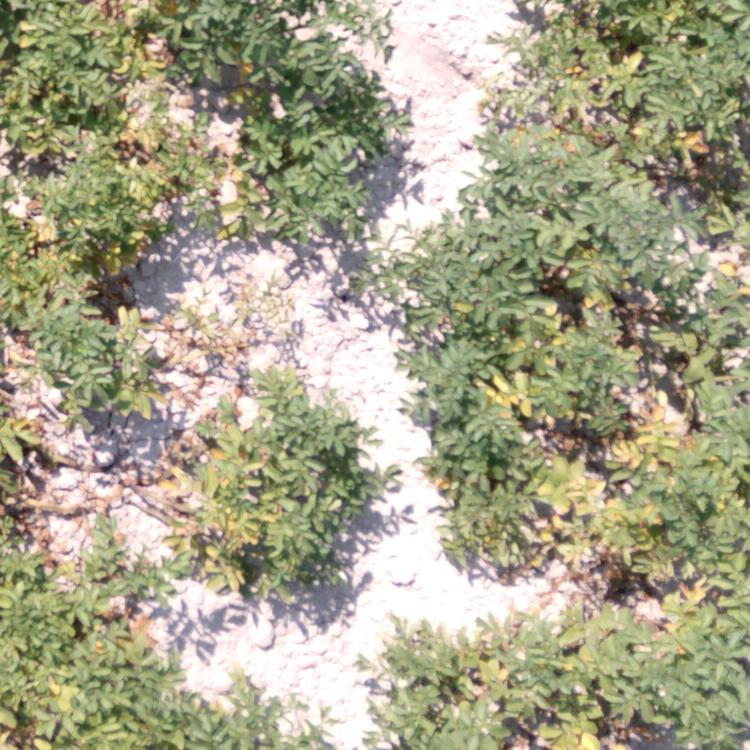healthy: (270, 1, 398, 233), (400, 185, 511, 349), (333, 256, 396, 322)
stressed: (423, 363, 750, 594), (513, 166, 750, 362), (479, 1, 750, 172), (179, 375, 372, 602), (1, 1, 267, 164), (1, 158, 262, 311), (1, 528, 167, 745), (586, 589, 747, 750), (384, 631, 584, 748), (1, 311, 155, 413), (180, 682, 322, 750), (1, 425, 54, 512)
